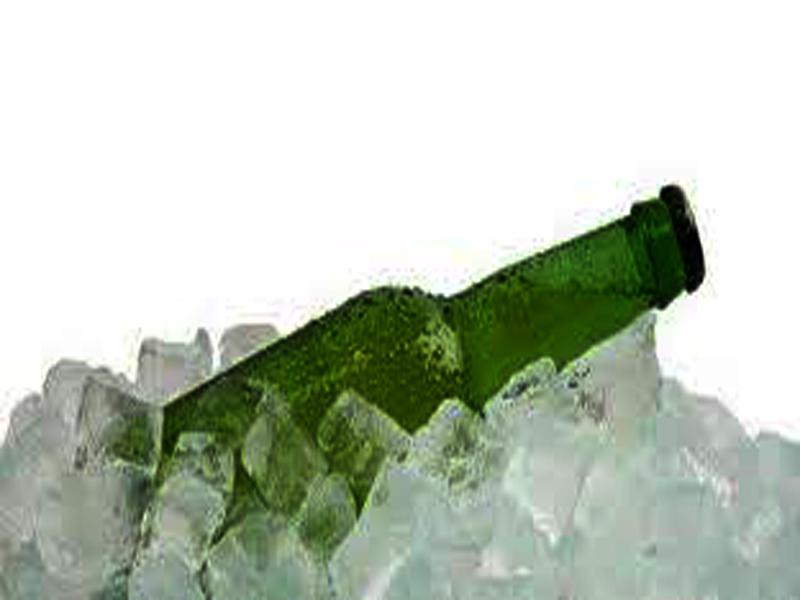Beer: (121, 190, 710, 484)
